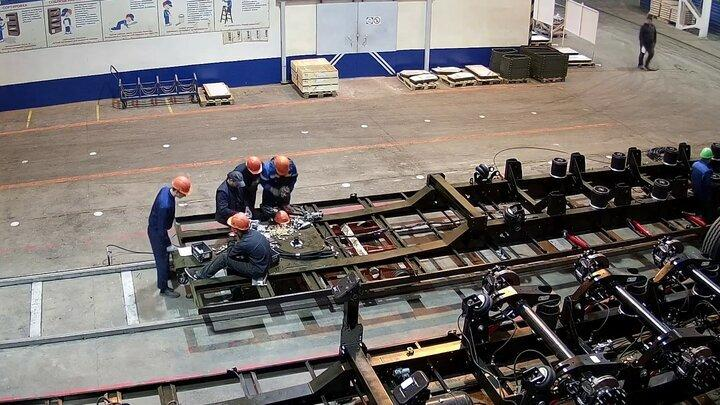helmet: (227, 210, 254, 233), (173, 171, 194, 197), (272, 154, 294, 176), (244, 154, 266, 174), (699, 144, 713, 159)
person: (181, 212, 275, 283), (150, 174, 189, 299), (690, 139, 715, 214), (263, 154, 297, 209), (214, 167, 248, 214), (233, 157, 261, 209), (638, 14, 660, 73)
